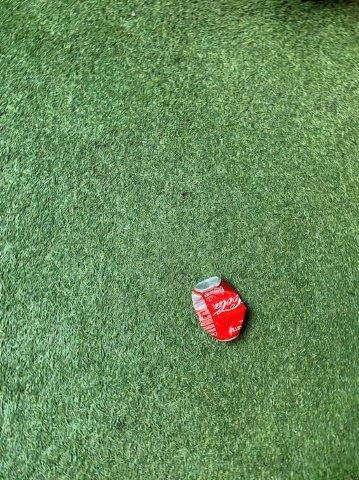kaleng: (192, 277, 246, 340)
